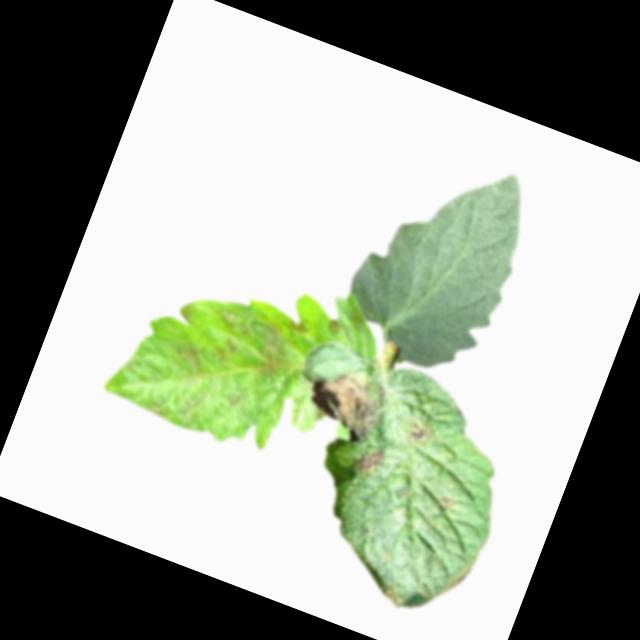Late_blight: (297, 355, 393, 451), (244, 305, 312, 390), (165, 336, 209, 380), (212, 304, 256, 339), (353, 445, 388, 480), (405, 417, 435, 446), (434, 493, 456, 513)
healthy: (329, 132, 545, 387)
